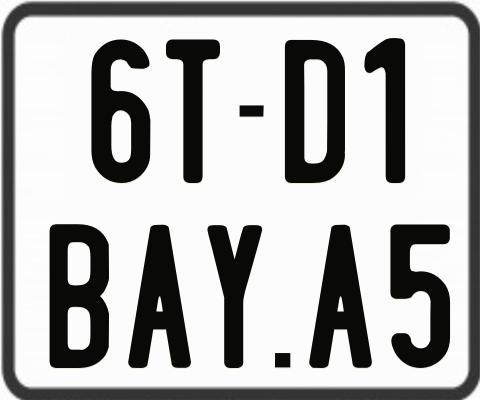1: (362, 37, 405, 186)
5: (388, 222, 450, 368)
6: (91, 39, 153, 187)
A: (127, 222, 195, 366), (307, 225, 373, 373)
B: (48, 221, 113, 371)
D: (285, 39, 351, 186)
T: (164, 39, 222, 185)
Y: (207, 224, 267, 368)
